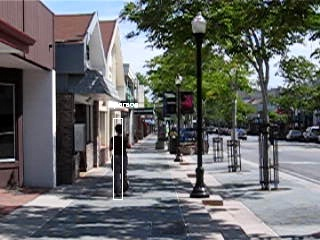person: (109, 124, 132, 199), (108, 124, 131, 199), (110, 124, 133, 199), (109, 123, 132, 198), (109, 125, 132, 200)
target_negative: (26, 56, 304, 150), (229, 12, 292, 207), (168, 173, 290, 230), (275, 10, 319, 160), (202, 20, 243, 102), (194, 190, 293, 208)
